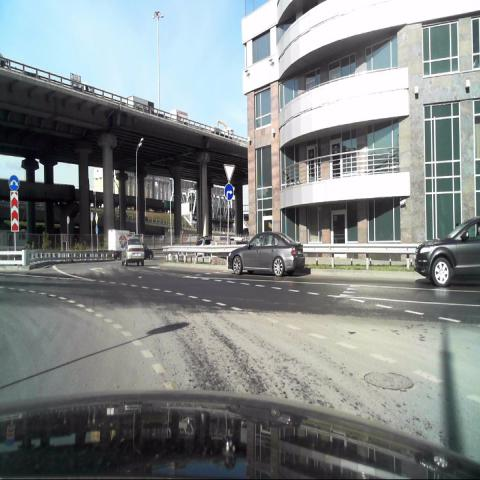4_1_2: (224, 183, 235, 202)
